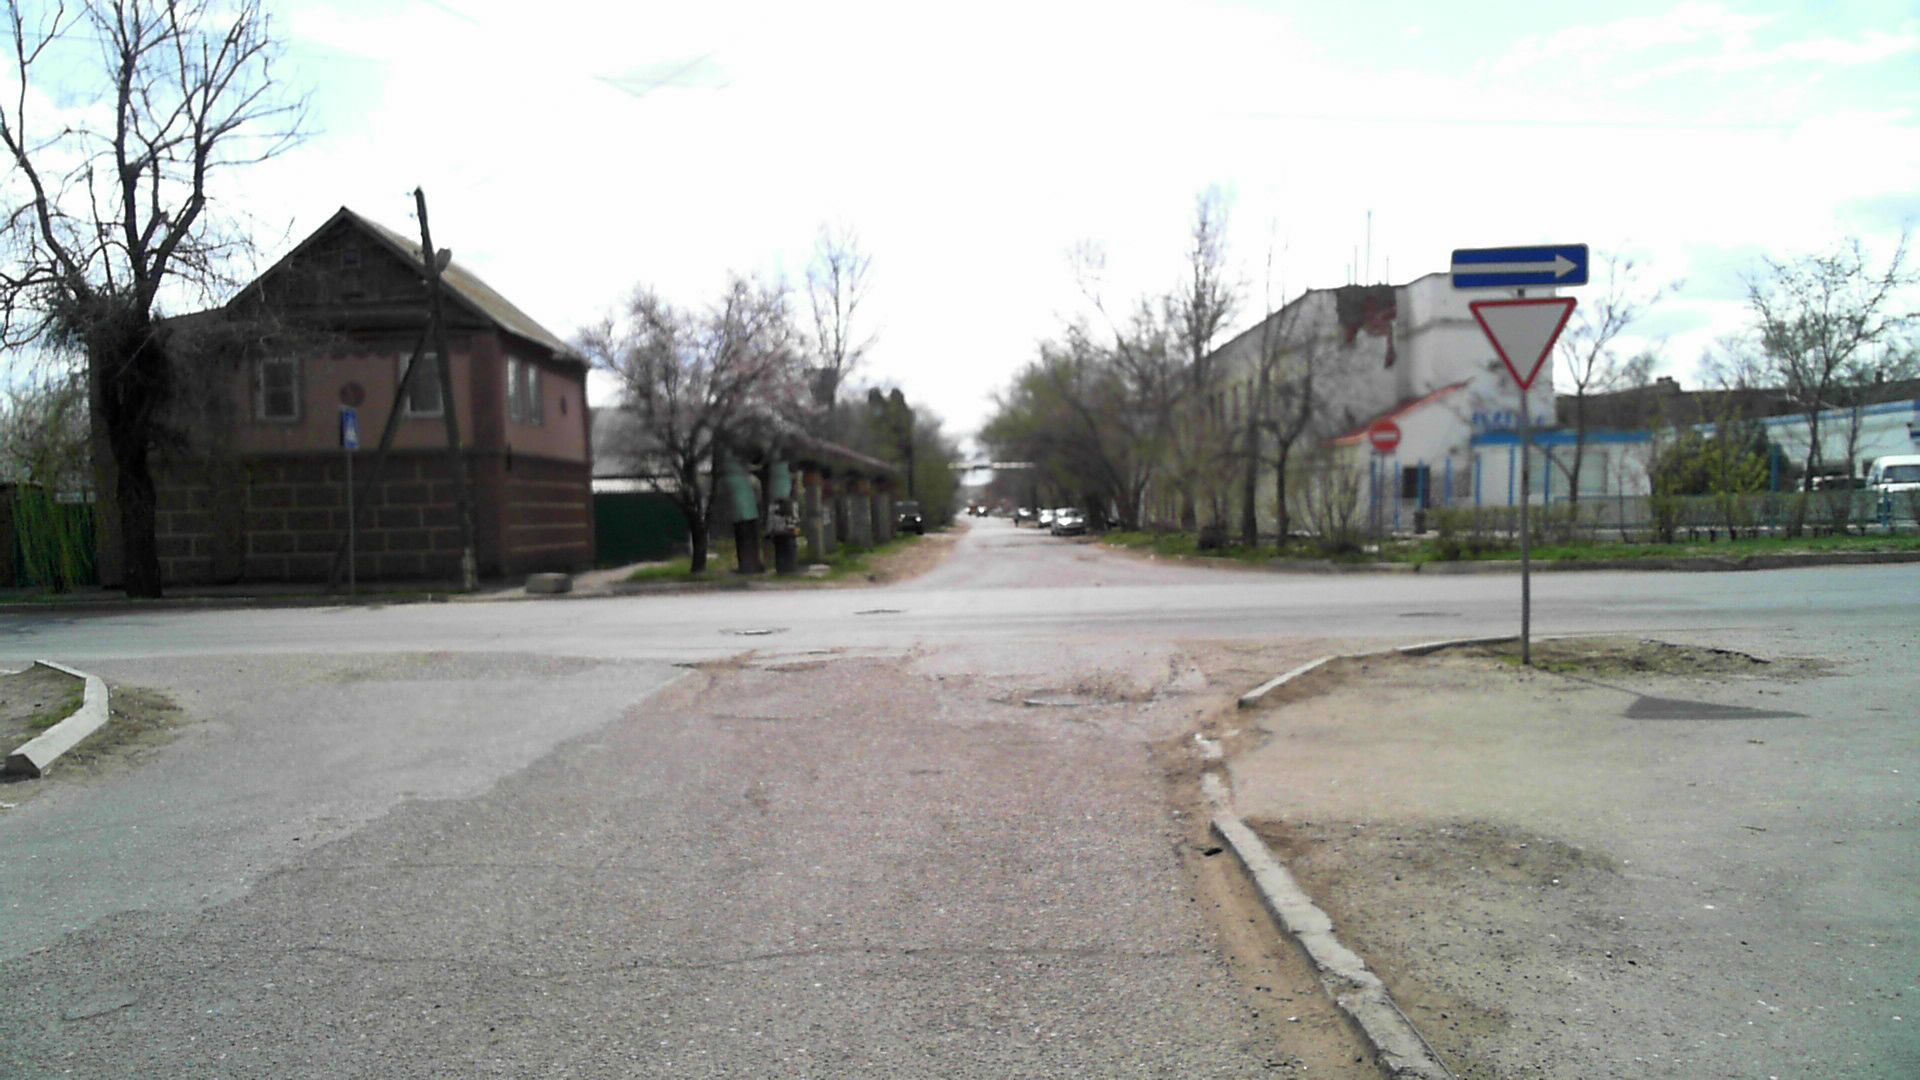One-Way Traffic: (1452, 245, 1588, 287)
